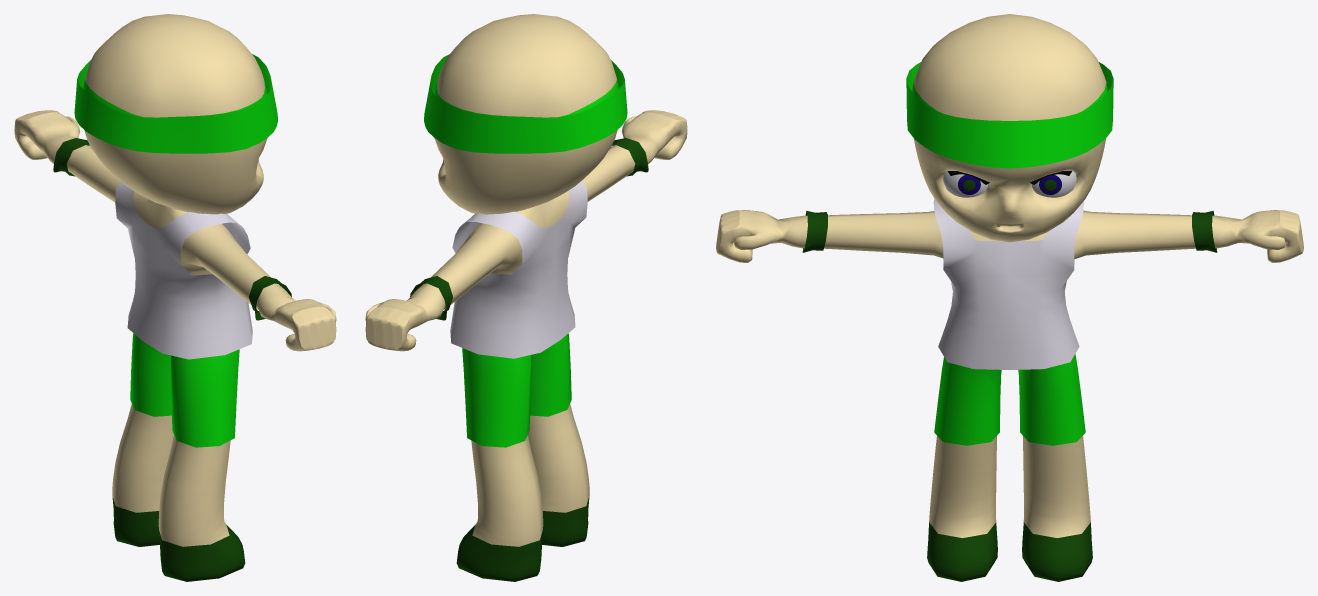
The model's file is NPC3.fbx.
3 views of the same model, side by side, from view 1: azimuth 30°, elevation 25°; view 2: azimuth 150°, elevation 25°; view 3: azimuth 270°, elevation 25° (orthographic).
Parts seen in each view (by area): view 1: Head, Body, SHIRT, Body.002; view 2: Head, Body, SHIRT, Body.002; view 3: Body, Head, SHIRT, Body.002, Eyeball.
Boxes of the visible parts, x1,y1,x2,y2 form: Head: [74, 14, 277, 214]; Body: [14, 110, 336, 581]; SHIRT: [115, 181, 252, 359]; Body.002: [130, 333, 239, 447]; Head: [424, 14, 627, 214]; Body: [365, 110, 687, 581]; SHIRT: [450, 180, 587, 358]; Body.002: [462, 333, 571, 447]; Body: [716, 210, 1303, 581]; Head: [906, 14, 1113, 242]; SHIRT: [933, 199, 1083, 369]; Body.002: [934, 354, 1085, 445]; Eyeball: [943, 171, 1076, 197].
Size of the model in its own units: 79.52 by 223 by 221.
